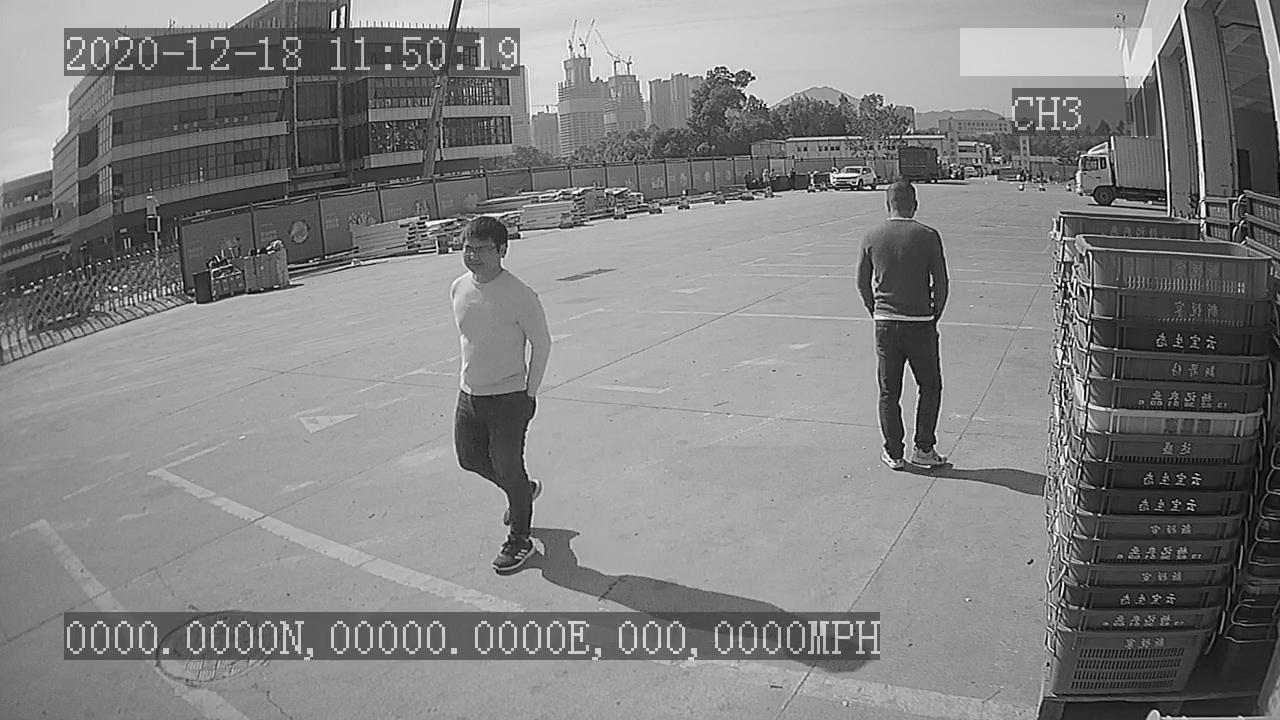person: (447, 215, 554, 576), (854, 177, 956, 474)
